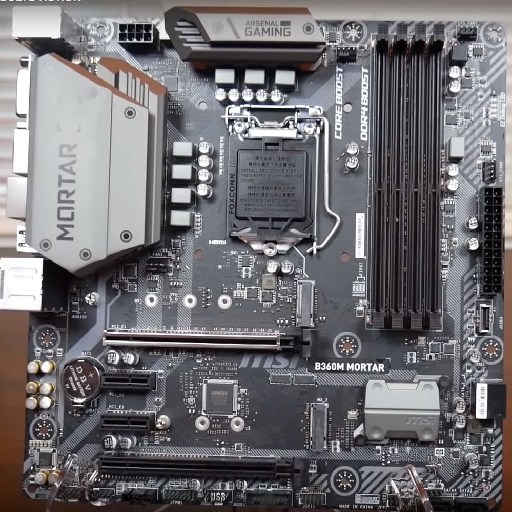CPU: (224, 132, 317, 257)
GPU: (96, 455, 309, 491), (99, 327, 317, 360)
MOTHERBOARD: (17, 12, 505, 509)
RAM: (369, 24, 446, 337)
SSD: (306, 400, 329, 452), (294, 280, 316, 326)
